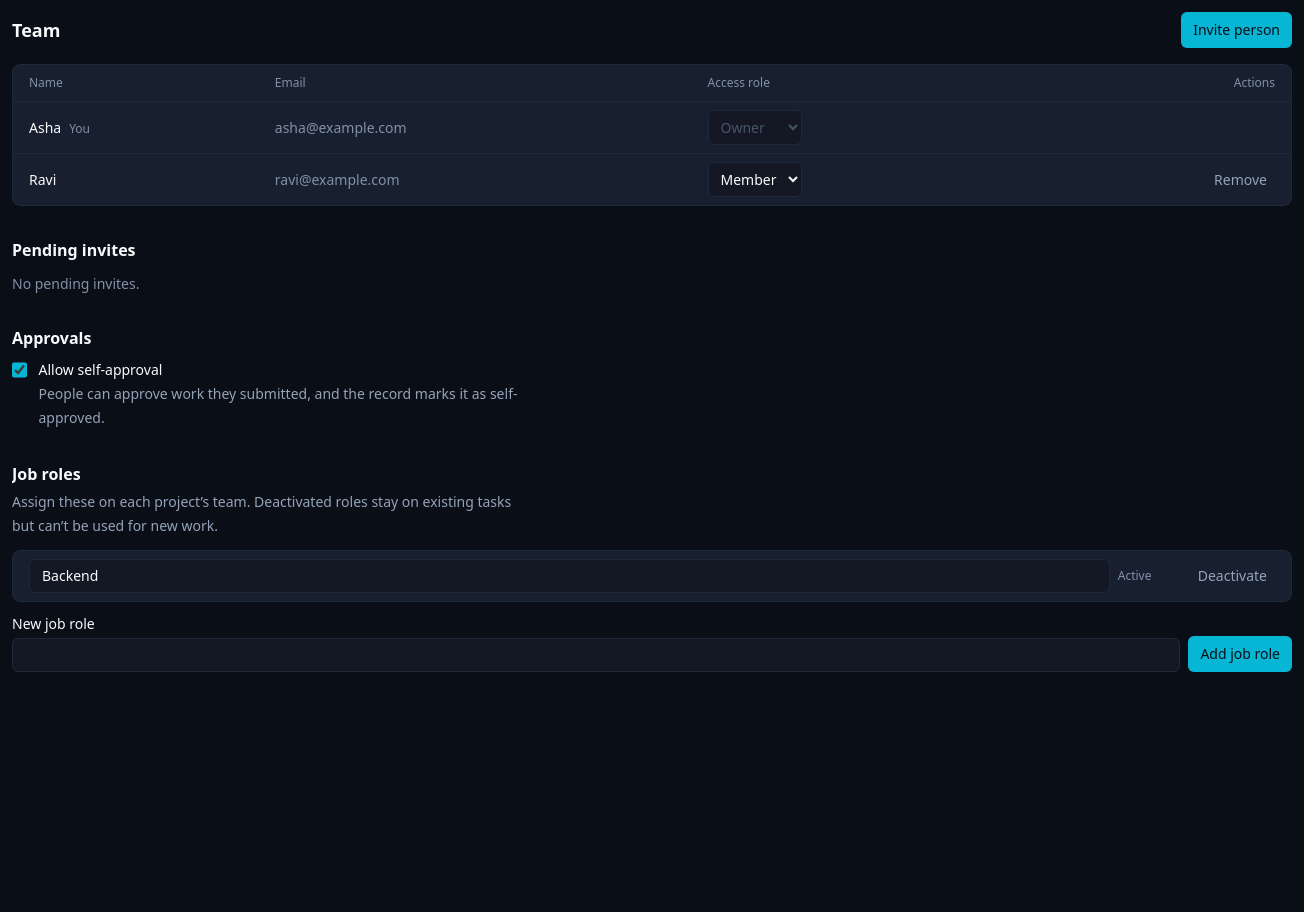
it: TeamPage › shows an API error when a role change fails
Select "Viewer" in the dropdown named "Access role for Ravi" at (754, 180), box x1=708 y1=162 x2=802 y2=197
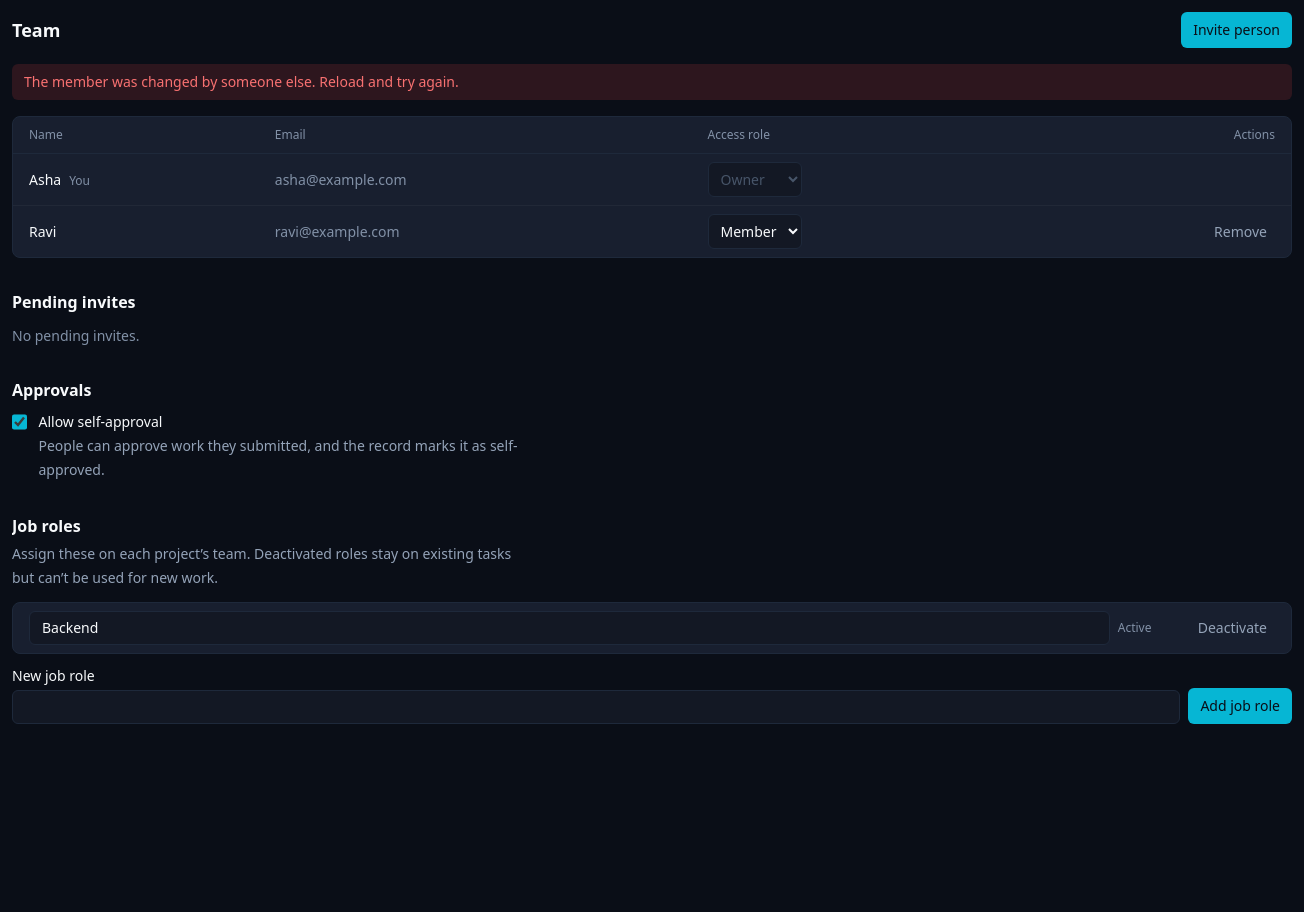
Now the message shows "changed by someone else", box x1=24 y1=72 x2=459 y2=91
